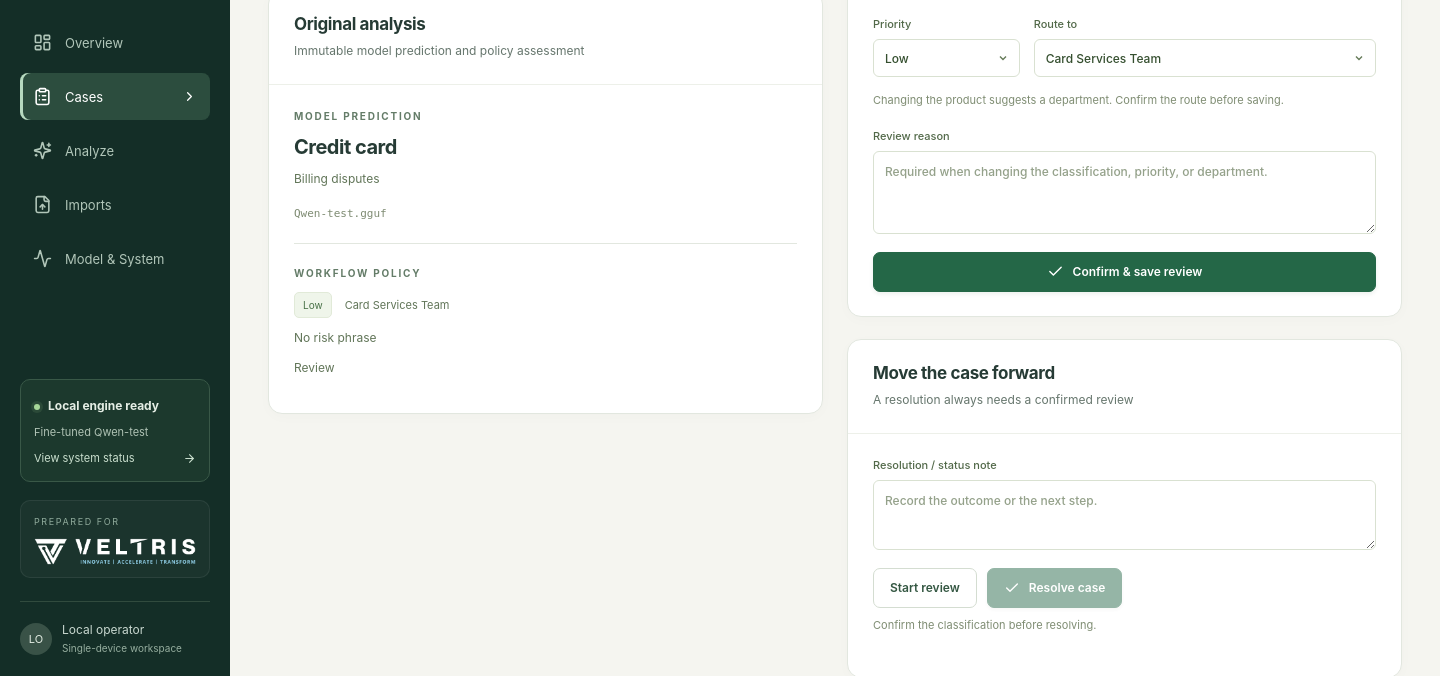
it: confirms a saved review with a toast
The width and height of the screenshot is (1440, 676).
(page scrolled)
Check: the text box labelled "Review reason" is shown, box [873,151,1376,234]
What coordinates should you click on to do the following:
click the button "Confirm & save review"
I would click on:
 (1124, 272)
Its box is [873,252,1376,292].
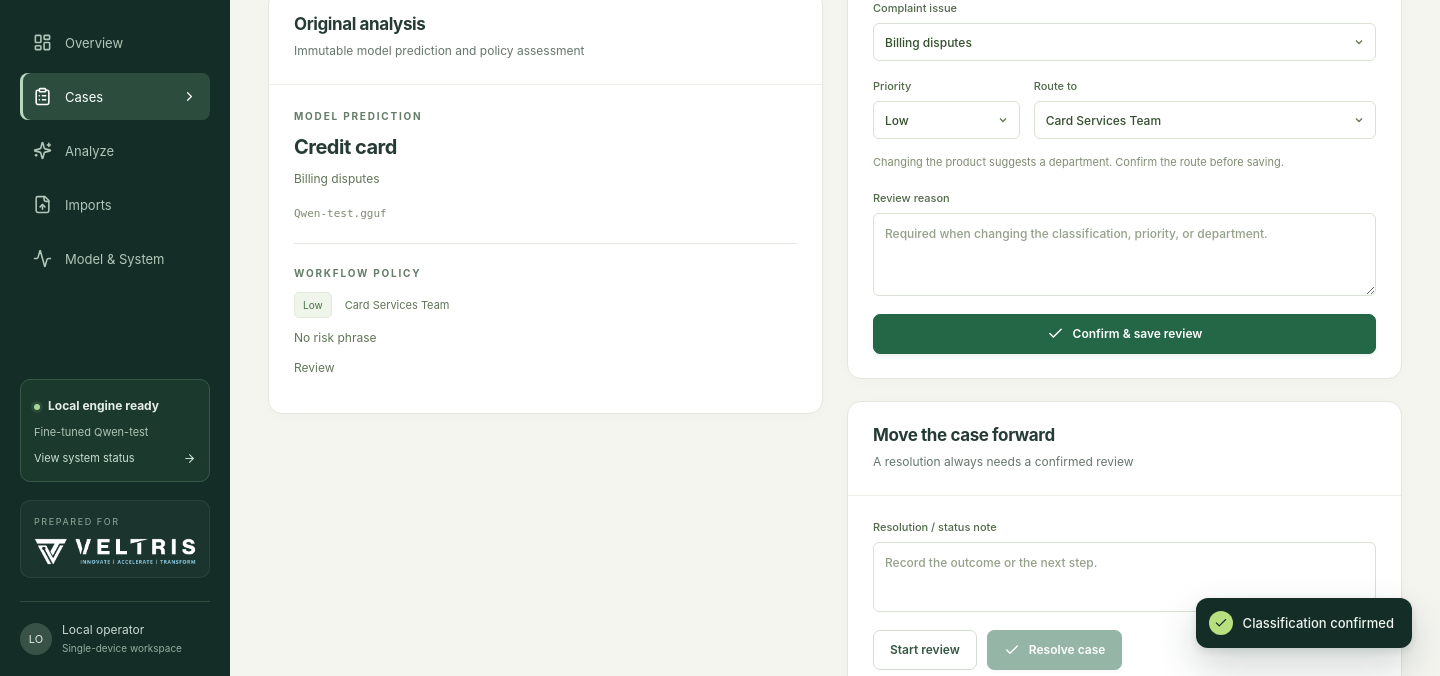
Check: the text "Classification confirmed" is shown, box [1243,615,1394,631]
